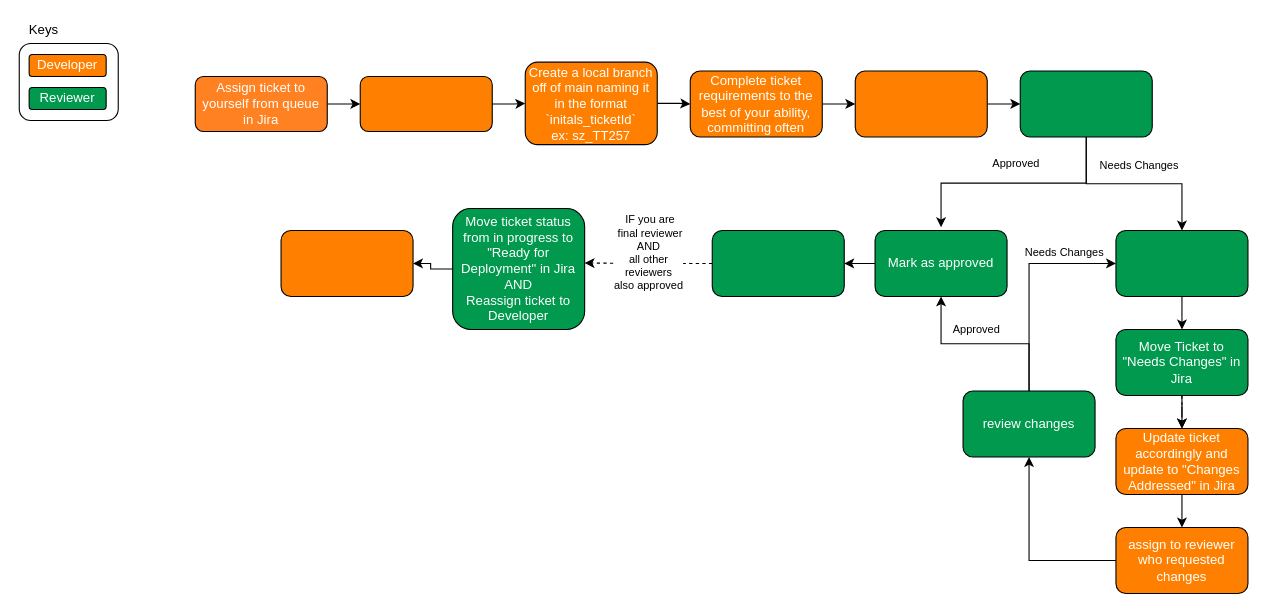
The diagram is 1267 pixels wide and 613 high, and some of its shapes have lost their labels. The shapes that lost their labels are listed below. From the top down, each one's box as (x1, y1, x2, y2) in pixels, then its label:
(359, 75, 492, 131): Transition from "to do" => "In Progress"
(854, 70, 987, 137): Create PR to main and assign two members of team to review
(1019, 70, 1152, 137): Review committed code
(280, 229, 413, 296): Merge ticket into branch AND transition to "Done" in Jira Yayyy!!!! :D
(711, 229, 844, 296): Remove yourself as reviewer
(1115, 229, 1248, 296): Submit Feedback and remove yourself as assignee
